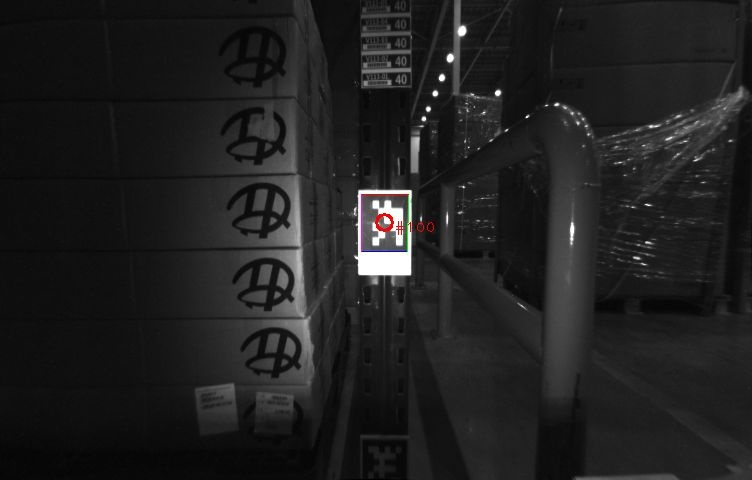True Barcode: (251, 393, 290, 437)
